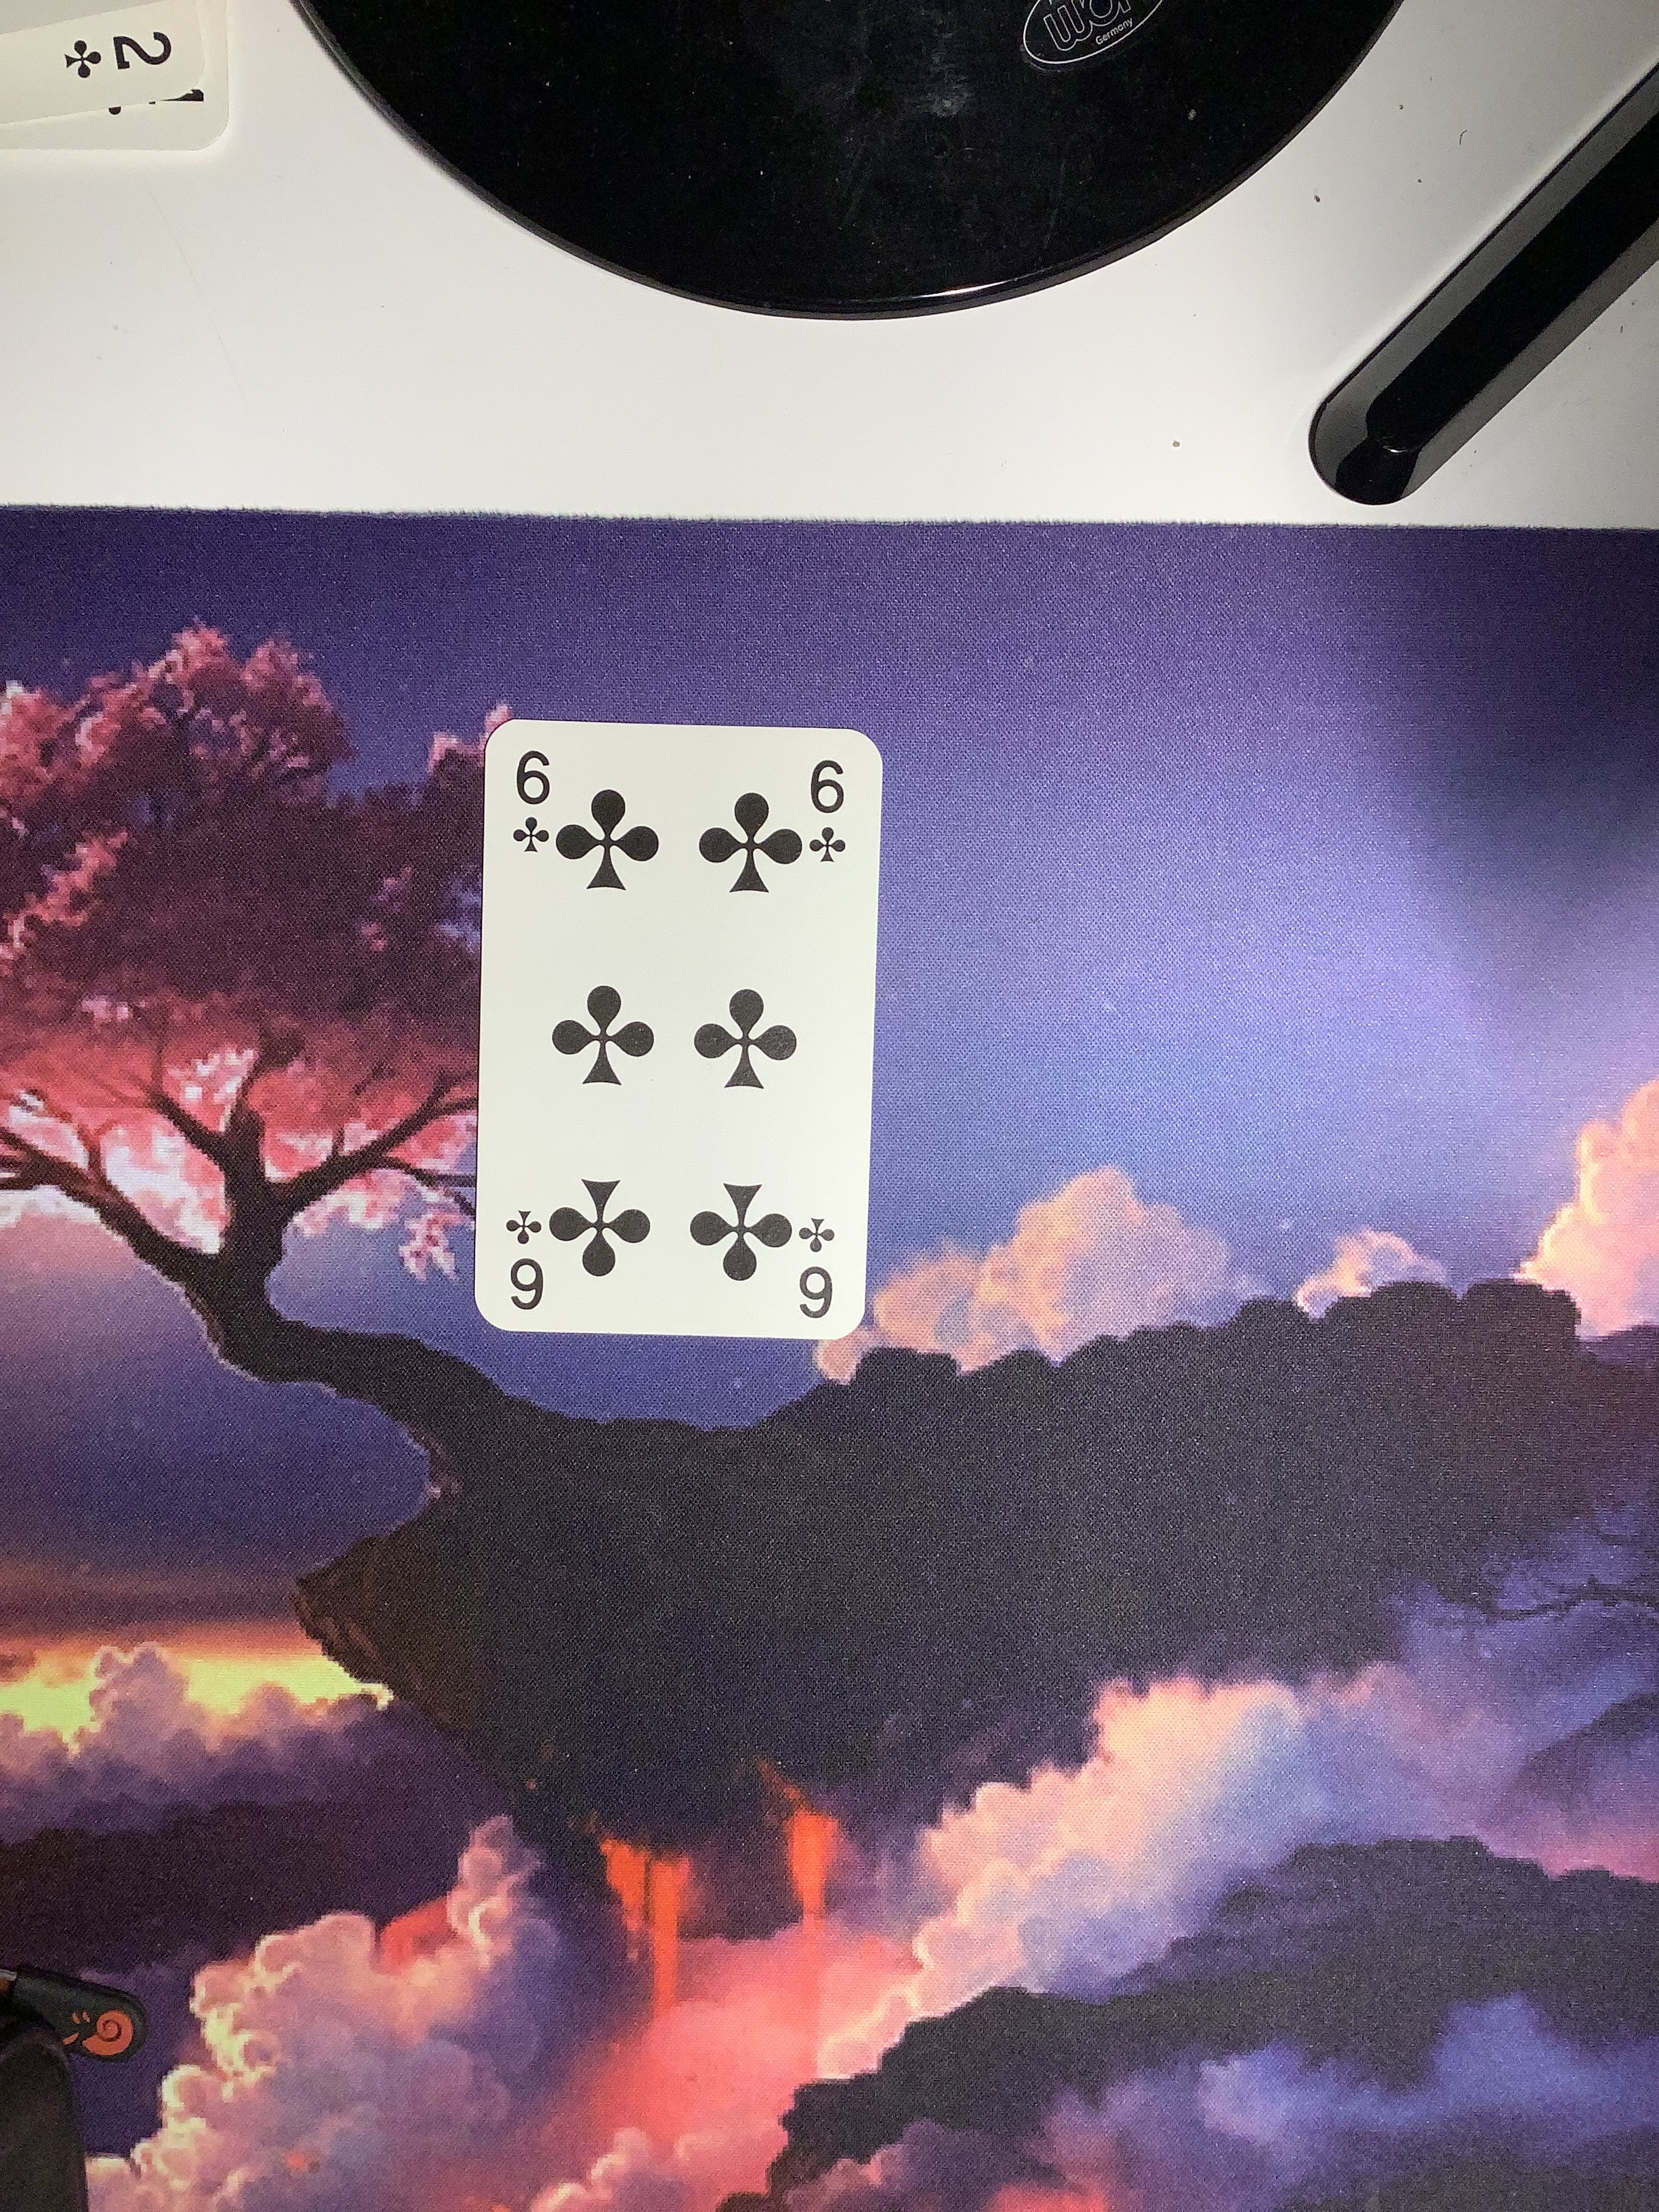♣ 6: (464, 697, 910, 1355)
